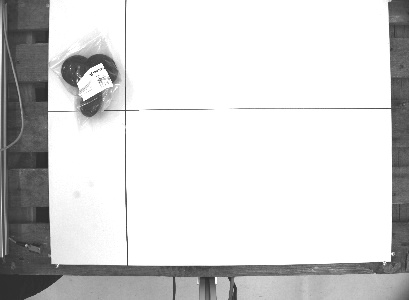t1: (45, 24, 128, 125)
